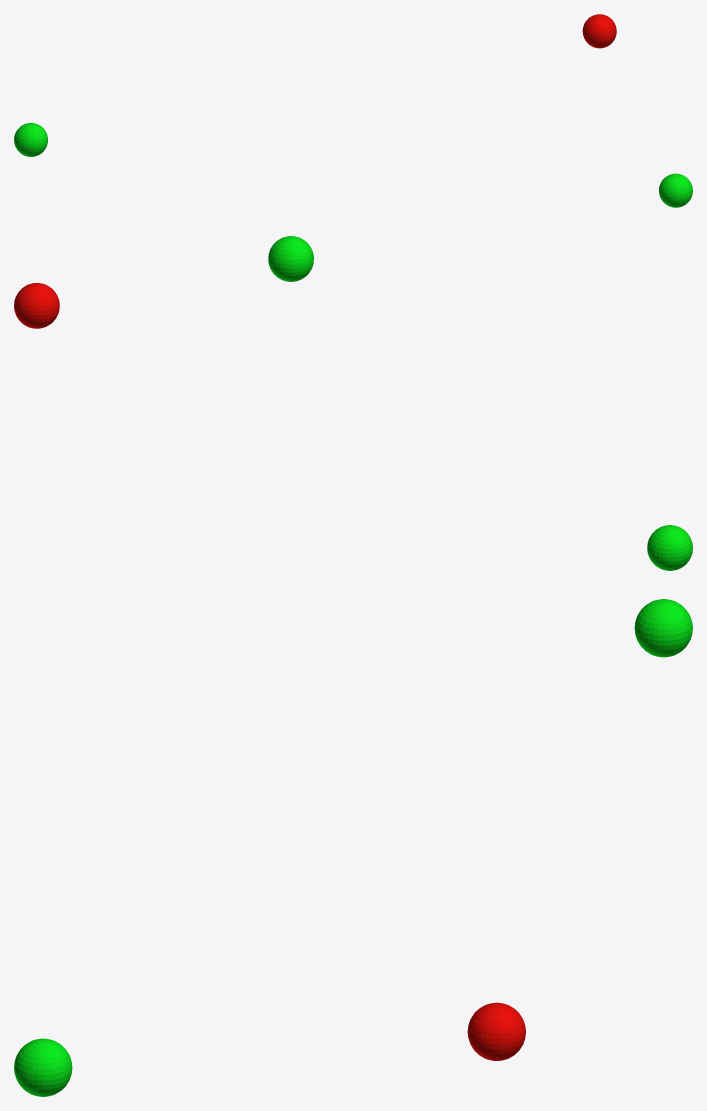
Rendered from 3d_view.glb.
3 renders of one model, top to bottom at view 1: azimuth 30°, elevation 25°; view 2: azimuth 150°, elevation 25°; view 3: azimuth 270°, elevation 25°, orthographic. The views are drawn at different scales.
Visible parts, largest first — view 1: Sphere, Sphere.002, Sphere.001; view 2: Sphere.001, Sphere.002, Sphere; view 3: Sphere, Sphere.001, Sphere.002.
Boxes of the visible parts, x1,y1,x2,y2 form: Sphere: [582, 14, 616, 48]; Sphere.002: [659, 173, 692, 207]; Sphere.001: [14, 123, 47, 156]; Sphere.001: [647, 525, 692, 570]; Sphere.002: [268, 236, 313, 281]; Sphere: [14, 283, 59, 328]; Sphere: [467, 1002, 525, 1060]; Sphere.001: [634, 599, 692, 657]; Sphere.002: [14, 1038, 72, 1096].
Size of what is drawn, in the model's own units: 76.23 by 10.54 by 47.72.
